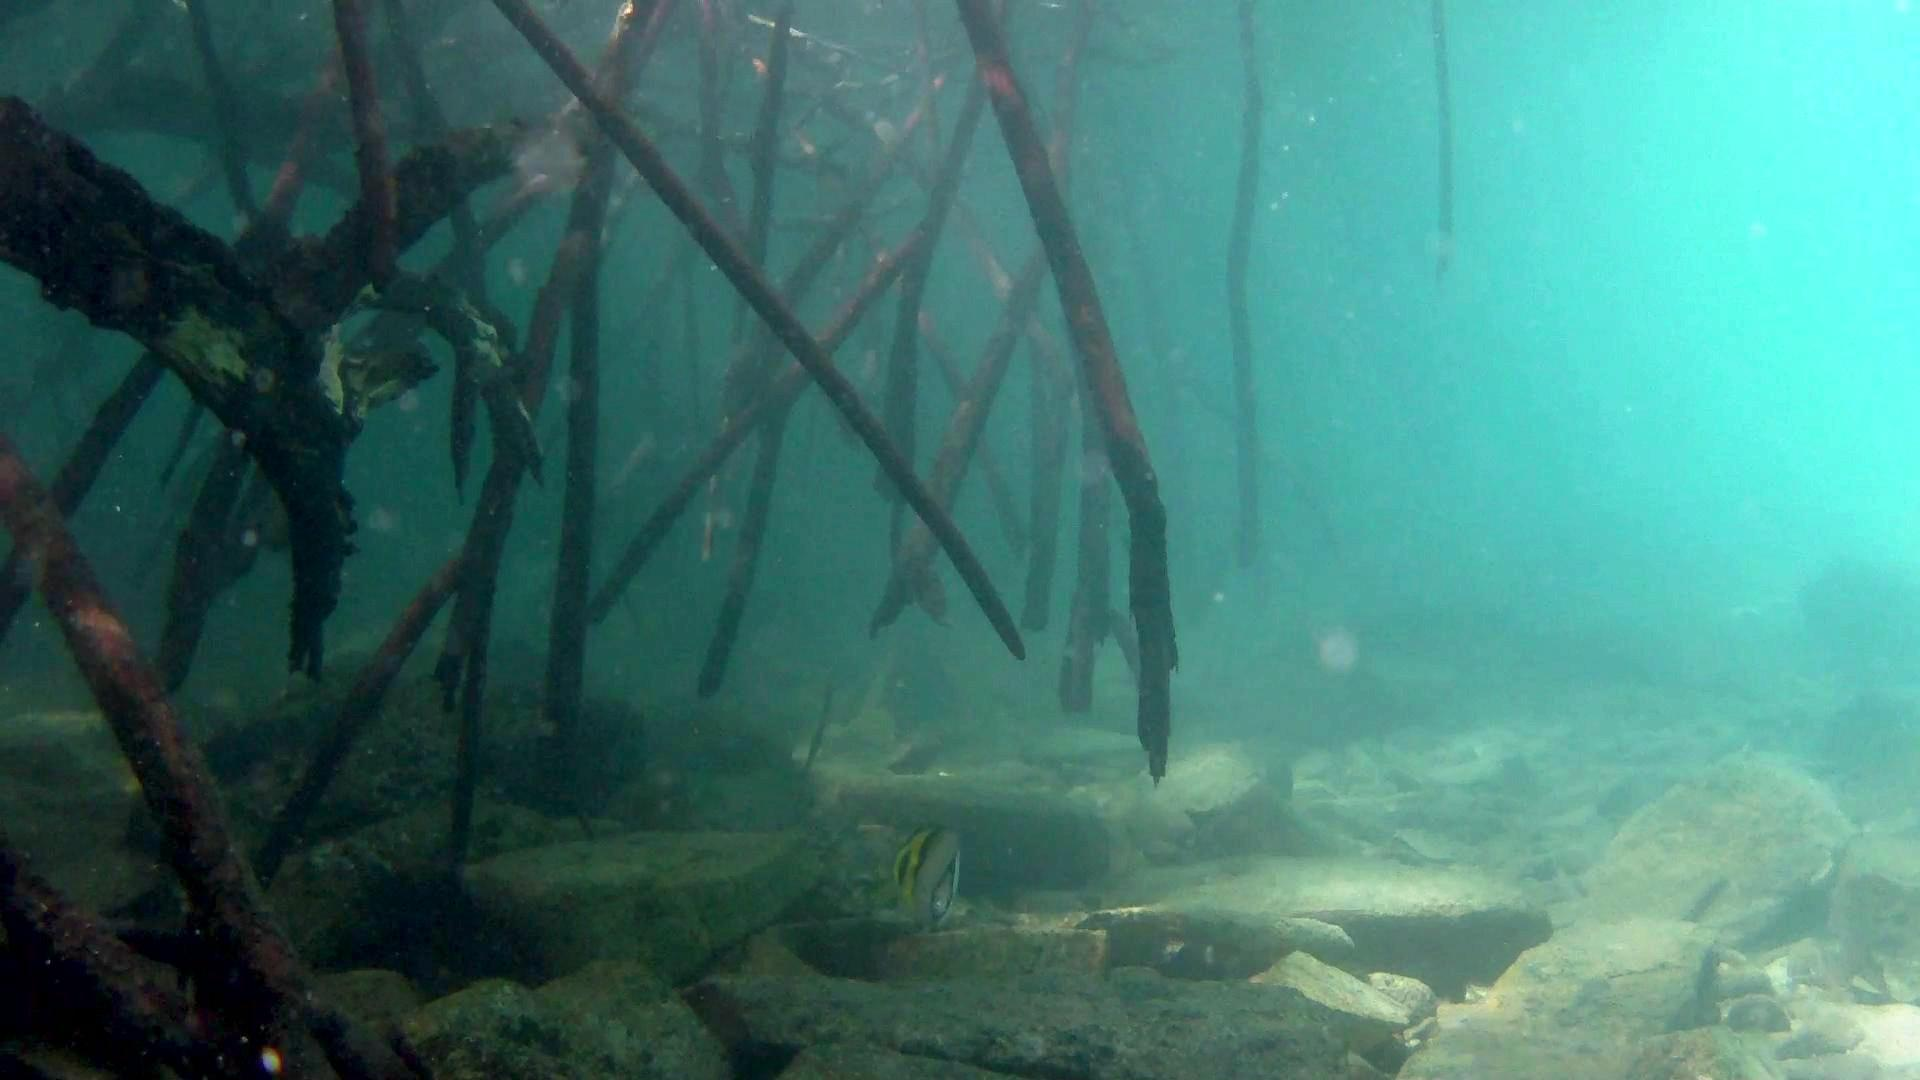chaetodon vagabundus: (890, 819, 964, 934)
